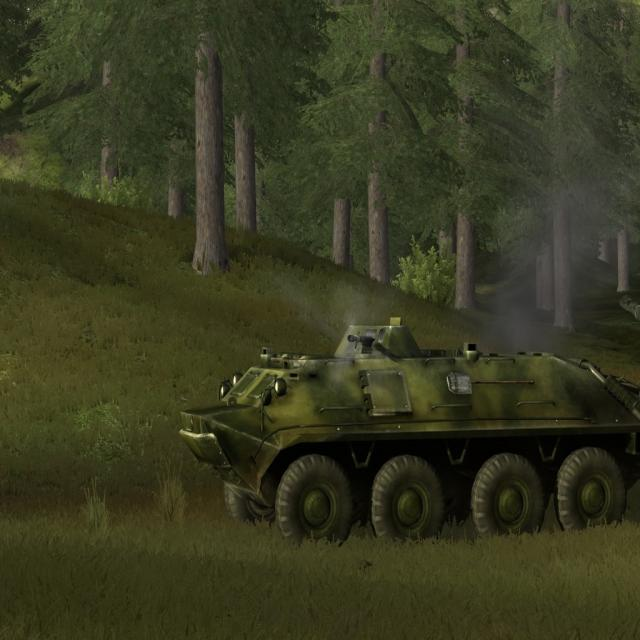tank: (176, 315, 639, 546)
